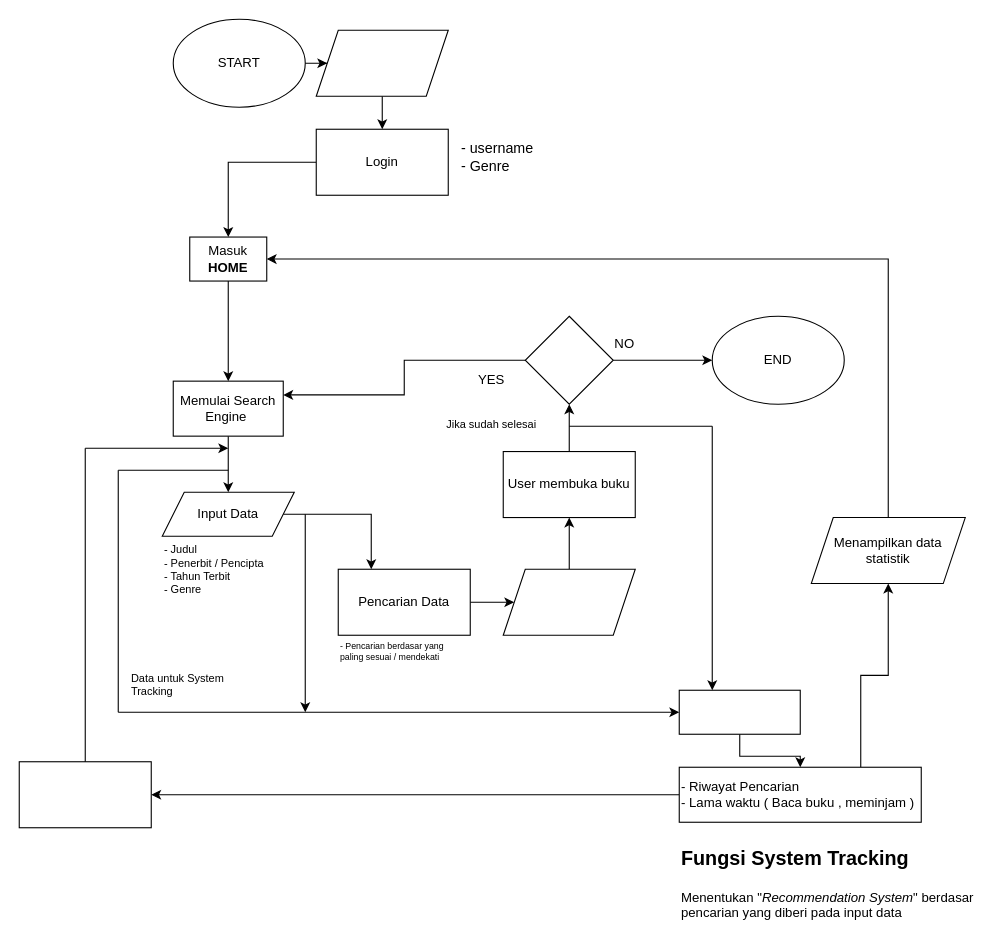
This 996x944 diagram has some shape labels left out. The box of each missing label's shape, as (x1, y1, x2, y2) in pixels:
Input data Login: (315, 29, 448, 96)
Lanjutkan mencari ?: (524, 315, 613, 404)
Menentukan Recommendation System: (18, 761, 151, 828)
Output BUKU & Posisi rak: (502, 568, 635, 635)
System Tracking: (678, 689, 800, 734)
